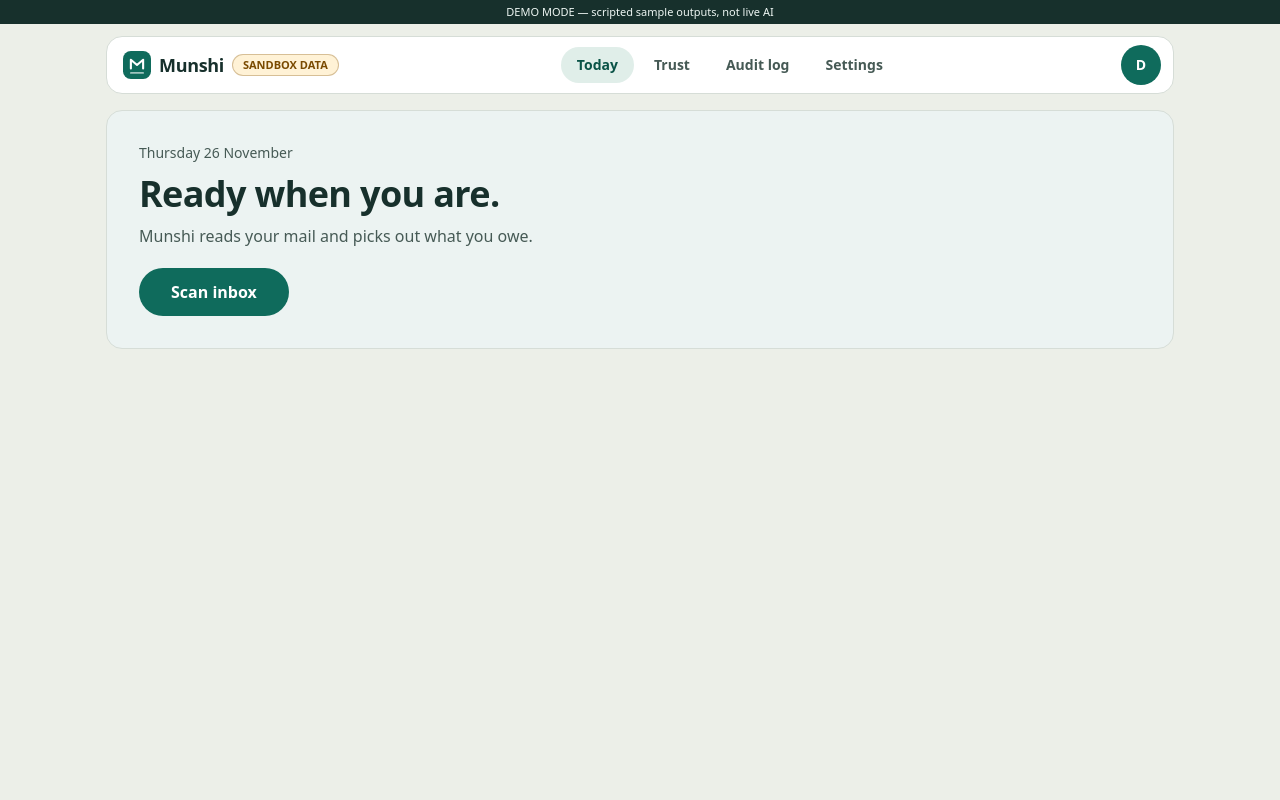
Test: sign out › stays signed in, and says so, if the server did not end the session
The width and height of the screenshot is (1280, 800).
Click the button "D" at [1141, 65], box [1121, 45, 1161, 85]
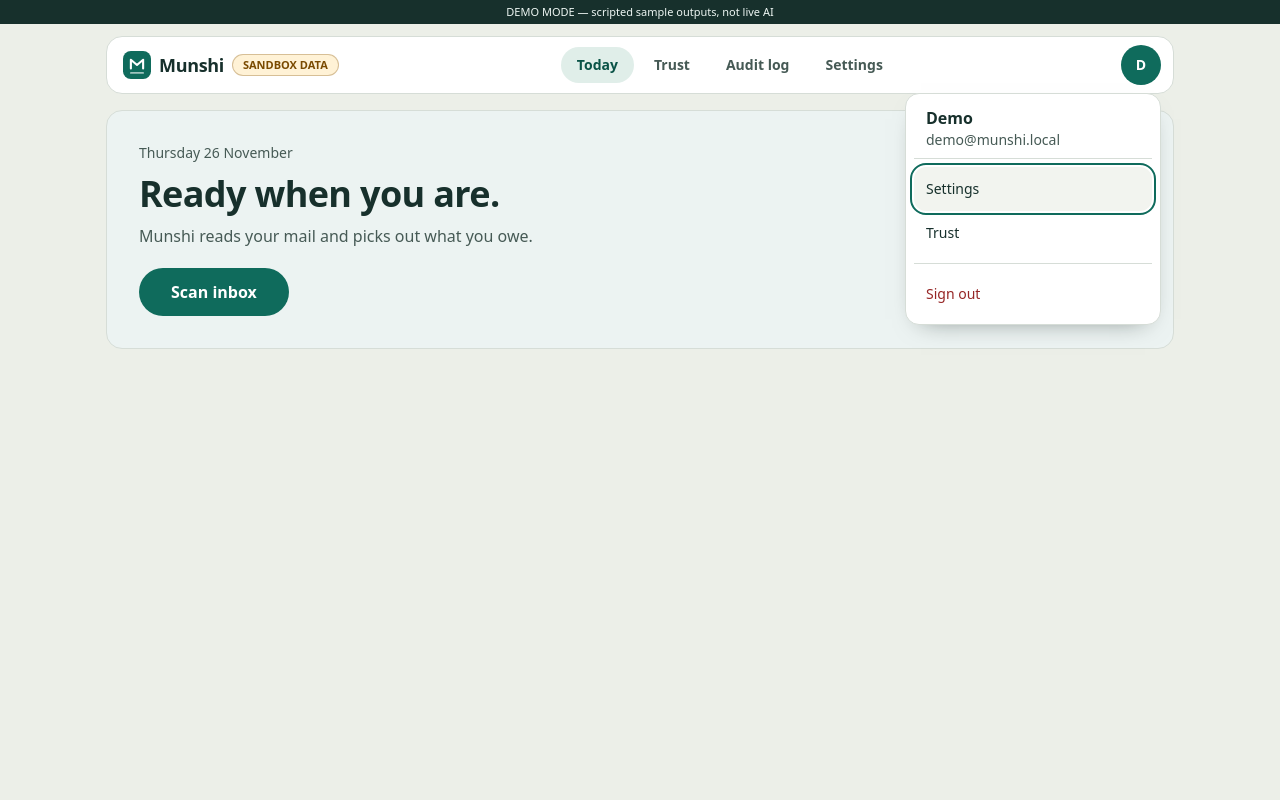
Click the menu item "Sign out" at [1033, 294], box [914, 272, 1152, 316]
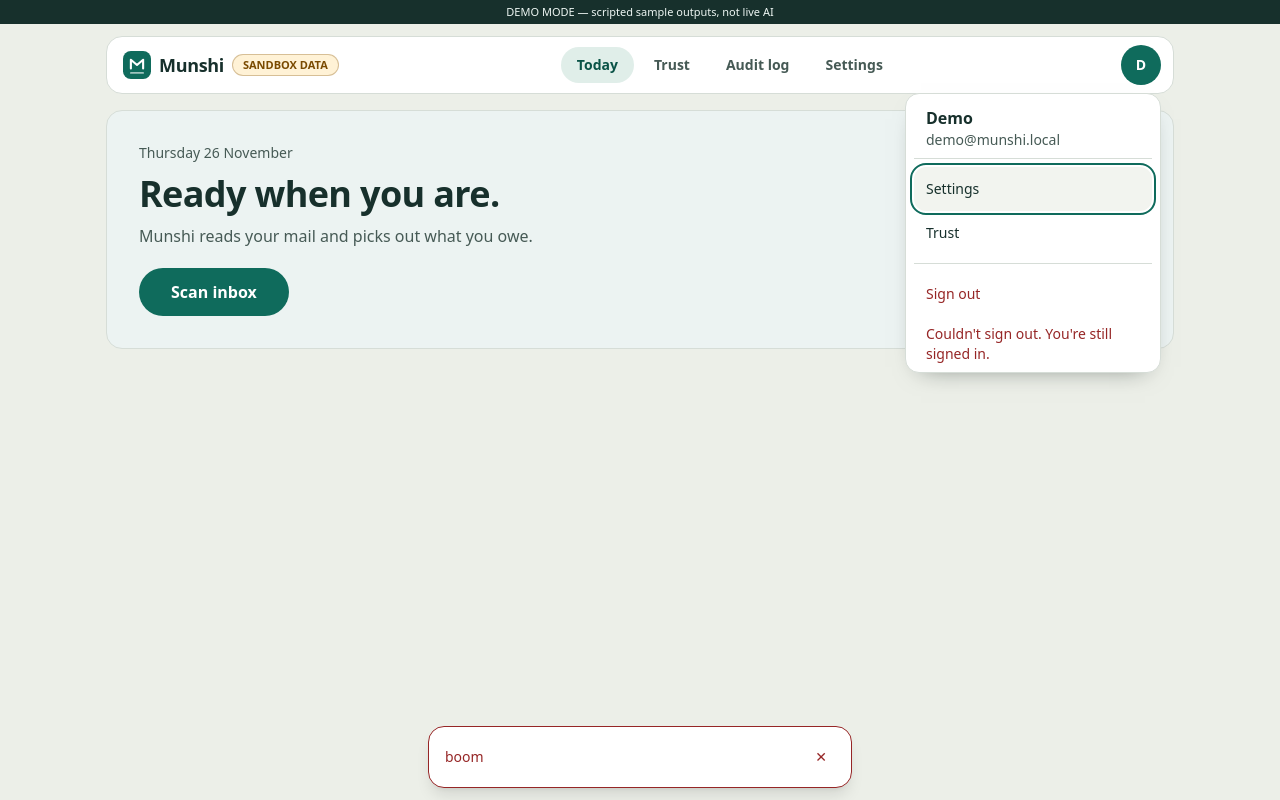
Check: the navigation bar named "Main" is shown, box [561, 47, 899, 83]
Check: the text "Couldn't sign out. You're still signed in." is shown, box [926, 324, 1112, 363]
